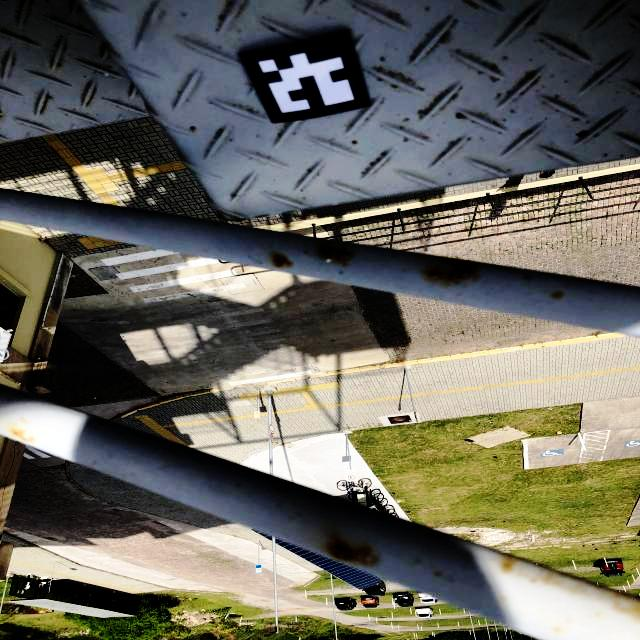Corrosion: (327, 532, 380, 565), (425, 255, 477, 286), (319, 245, 355, 265), (10, 425, 35, 443), (271, 253, 289, 270), (501, 559, 516, 574)
